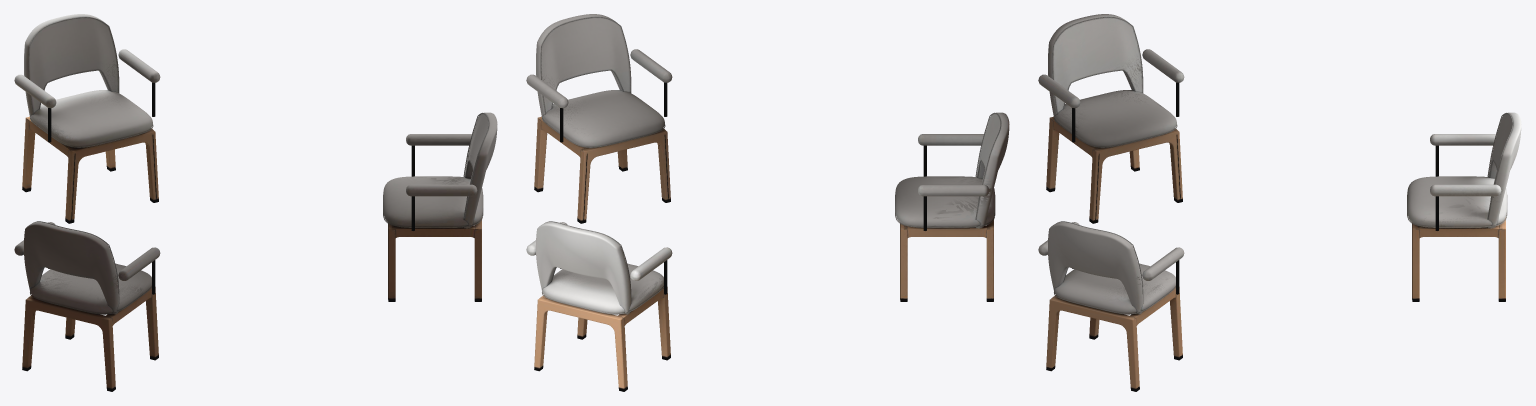
File: salon-chairs-lit.glb
3 views of the same model, side by side, from view 1: azimuth 30°, elevation 25°; view 2: azimuth 150°, elevation 25°; view 3: azimuth 270°, elevation 25° (orthographic).
Visible parts, largest first — view 1: Tailored chairs | atelier, Tailored chairs | gallery; view 2: Tailored chairs | atelier, Tailored chairs | gallery; view 3: Tailored chairs | atelier, Tailored chairs | gallery.
Boxes of the visible parts, left/top/right/bottom form: Tailored chairs | atelier: left=22, top=14, right=497, bottom=391; Tailored chairs | gallery: left=14, top=14, right=497, bottom=391; Tailored chairs | atelier: left=534, top=14, right=1009, bottom=391; Tailored chairs | gallery: left=526, top=14, right=1009, bottom=391; Tailored chairs | atelier: left=1046, top=14, right=1521, bottom=391; Tailored chairs | gallery: left=1038, top=14, right=1521, bottom=391.
Bounding box in the file's own units: 2.54 × 0.8237 × 2.3.
8 materials, 8 textured.
